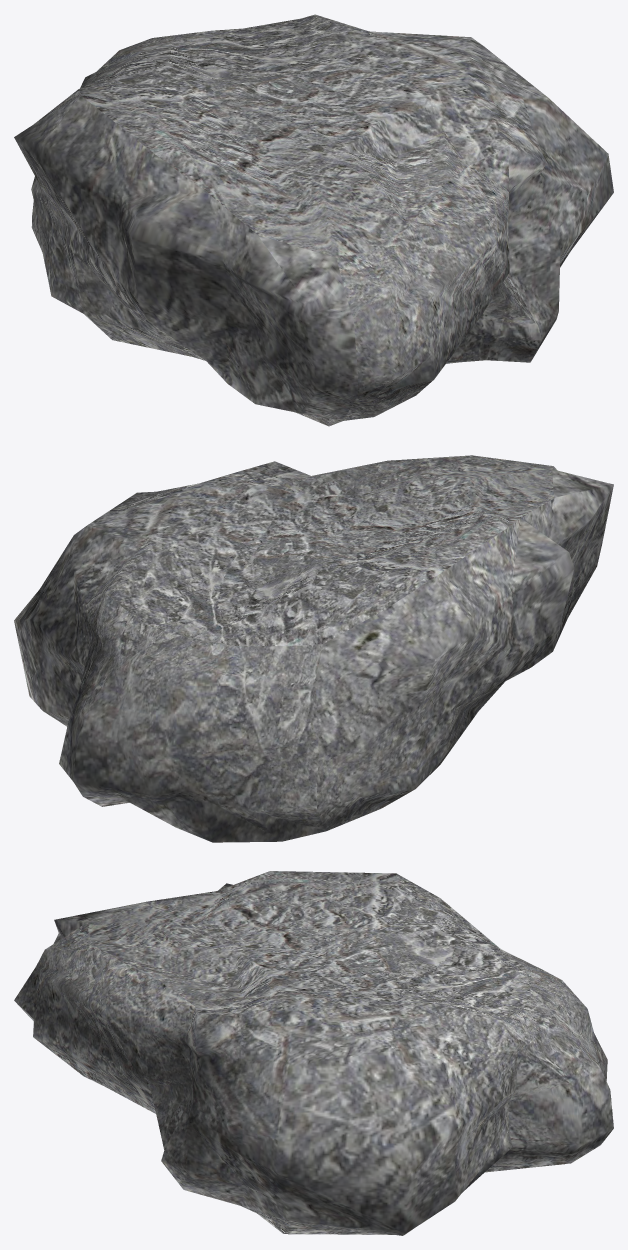
File: MossRock2.FBX
3 views of the same model, one above another, from view 1: azimuth 30°, elevation 25°; view 2: azimuth 150°, elevation 25°; view 3: azimuth 270°, elevation 25° (orthographic). The views are drawn at different scales.
Parts seen in each view (by area): view 1: MossRock2; view 2: MossRock2; view 3: MossRock2.
Boxes of the visible parts, bbox=[...] form: MossRock2: bbox=[14, 14, 613, 426]; MossRock2: bbox=[14, 455, 613, 842]; MossRock2: bbox=[14, 871, 613, 1235].
Bounding box in the file's own units: 178 × 97.24 × 225.
